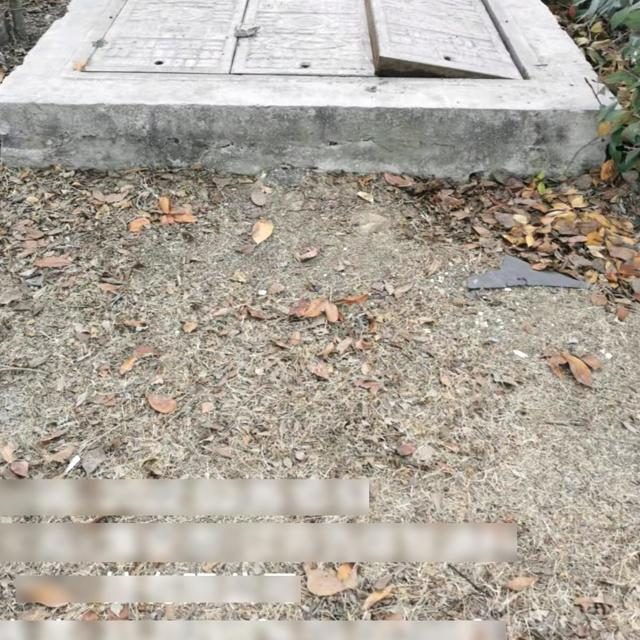uncovered: (73, 0, 551, 96)
